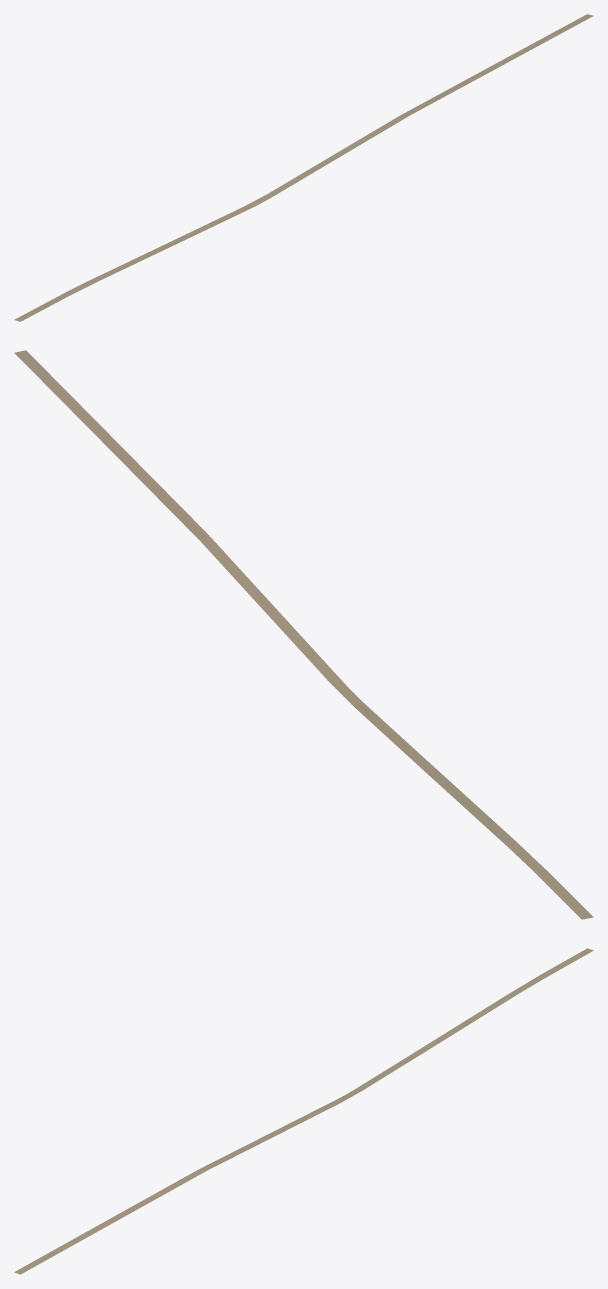
Rendered from farm_4_10_track.glb.
3 renders of one model, top to bottom at view 1: azimuth 90°, elevation 25°; view 2: azimuth 150°, elevation 25°; view 3: azimuth 270°, elevation 25°, orthographic. The views are drawn at different scales.
Visible parts, largest first — view 1: geometry_0; view 2: geometry_0; view 3: geometry_0.
Part boxes in pixels (<box>): geometry_0: <box>14,14,593,321</box>; geometry_0: <box>14,350,593,919</box>; geometry_0: <box>14,948,593,1274</box>.
Size of the model in its own units: 298 by 5.99 by 230.
